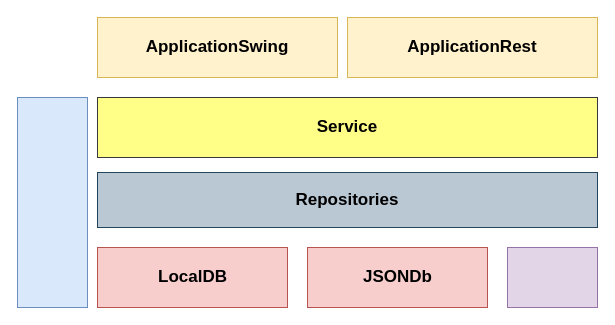
This 615x325 diagram has some shape labels left out. Each missing label, with the box of its shape:
Model: (16, 96, 88, 308)
Pojos: (506, 246, 598, 308)
